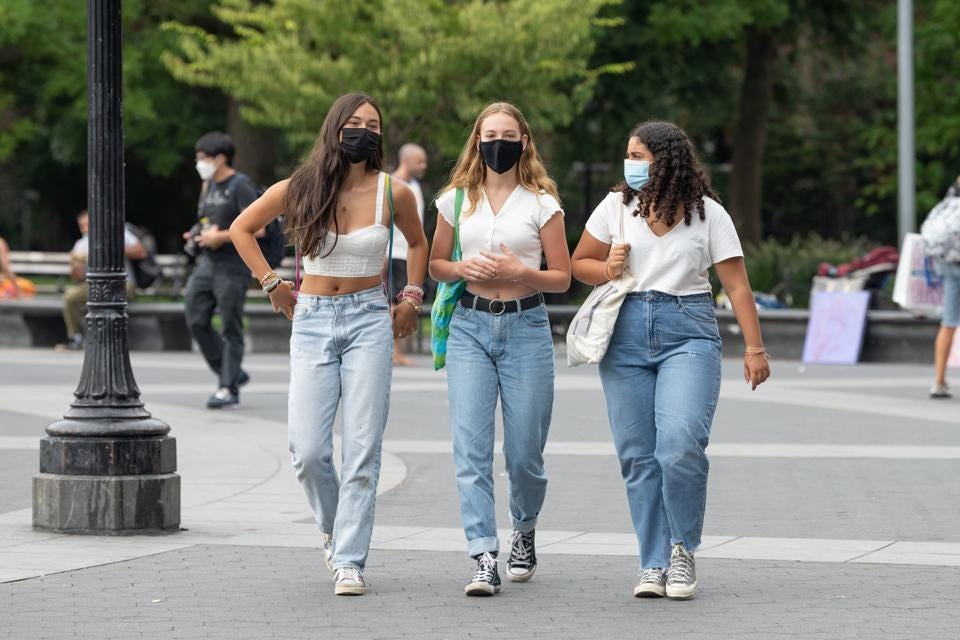with_mask: (477, 116, 514, 168), (341, 110, 380, 159), (626, 137, 660, 185)
